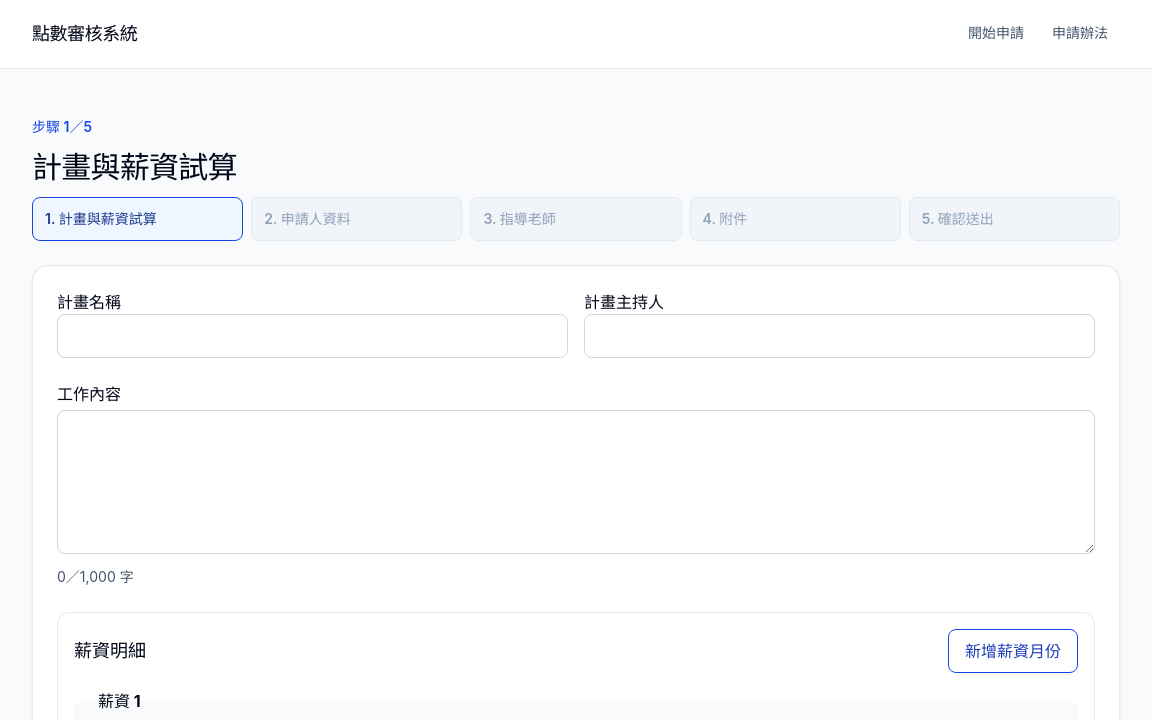
it: project participation application page › only estimates on explicit action and invalidates the result after salary changes
Expected: the heading "計畫與薪資試算" is shown, top-left (32, 149), bottom-right (237, 185)
Type "數位學習計畫" into the field labelled "計畫名稱".
click(312, 336); type("數位學習計畫")  # box top-left (57, 314), bottom-right (568, 358)
Type "陳教授" into the field labelled "計畫主持人".
click(840, 336); type("陳教授")  # box top-left (584, 314), bottom-right (1095, 358)
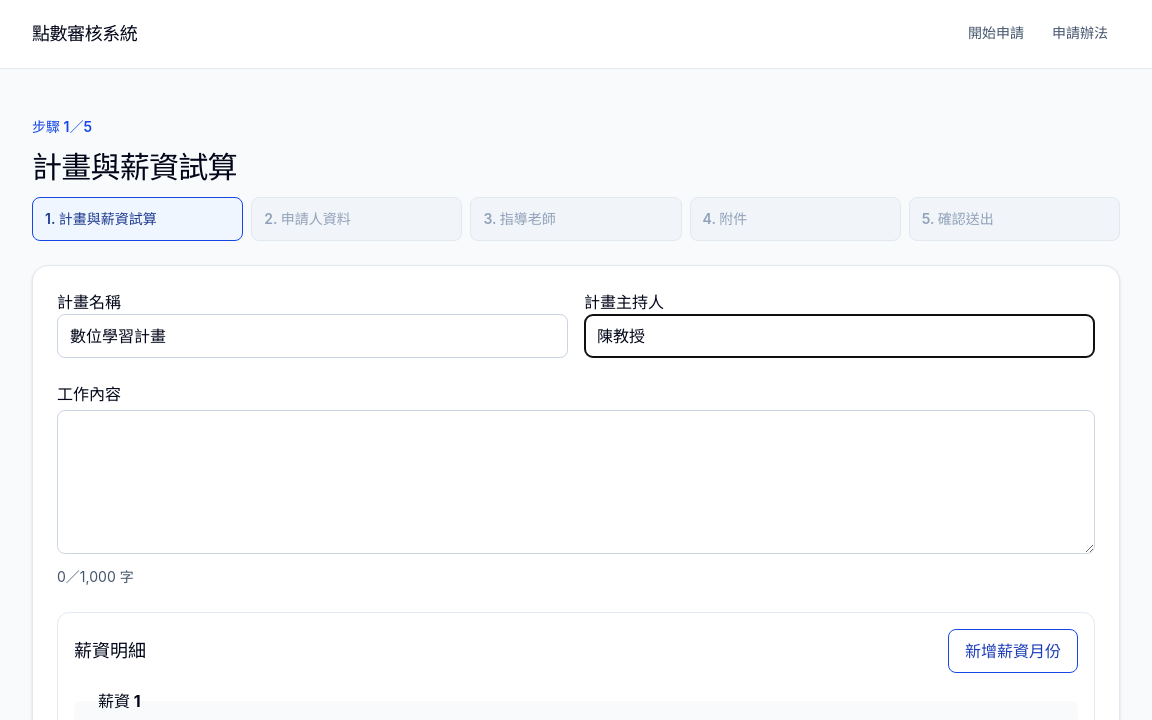
Type "協助教材設計。" into the text box labelled "工作內容".
click(576, 482); type("協助教材設計。")  # box top-left (57, 410), bottom-right (1095, 554)
(page scrolled)
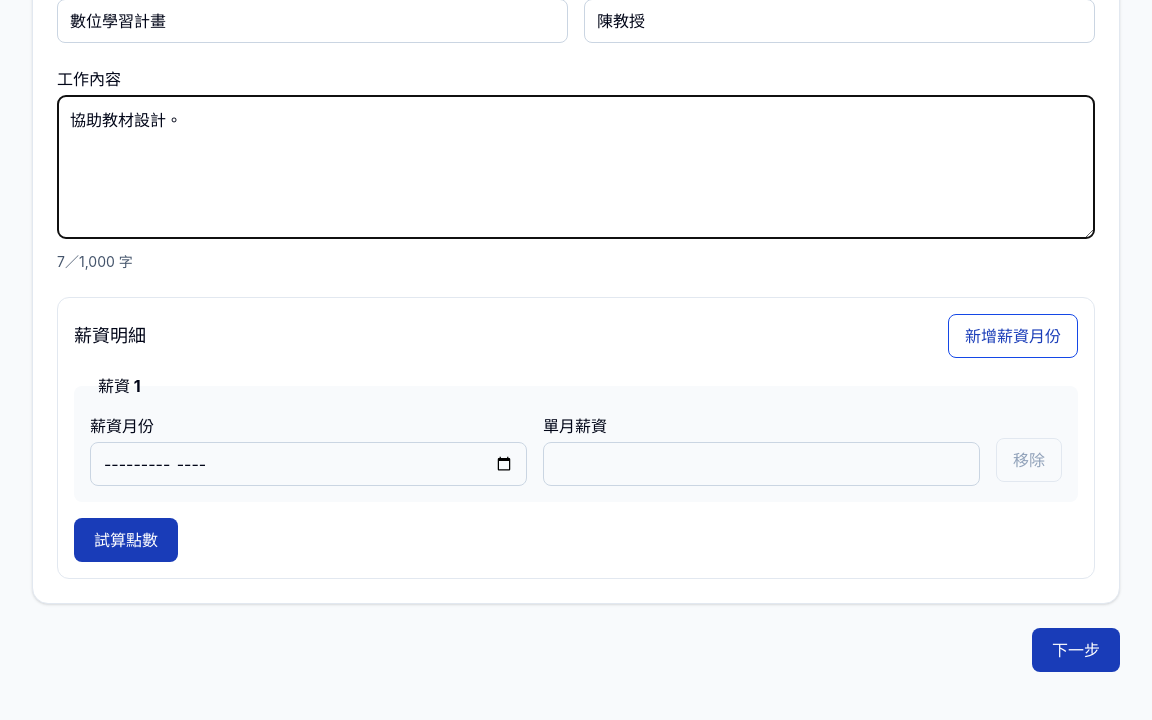
Type "2026-06" into the field labelled "薪資月份".
click(308, 464); type("2026-06")  # box top-left (90, 442), bottom-right (527, 486)
Type "8500" into the number field labelled "單月薪資".
click(762, 464); type("8500")  # box top-left (543, 442), bottom-right (980, 486)
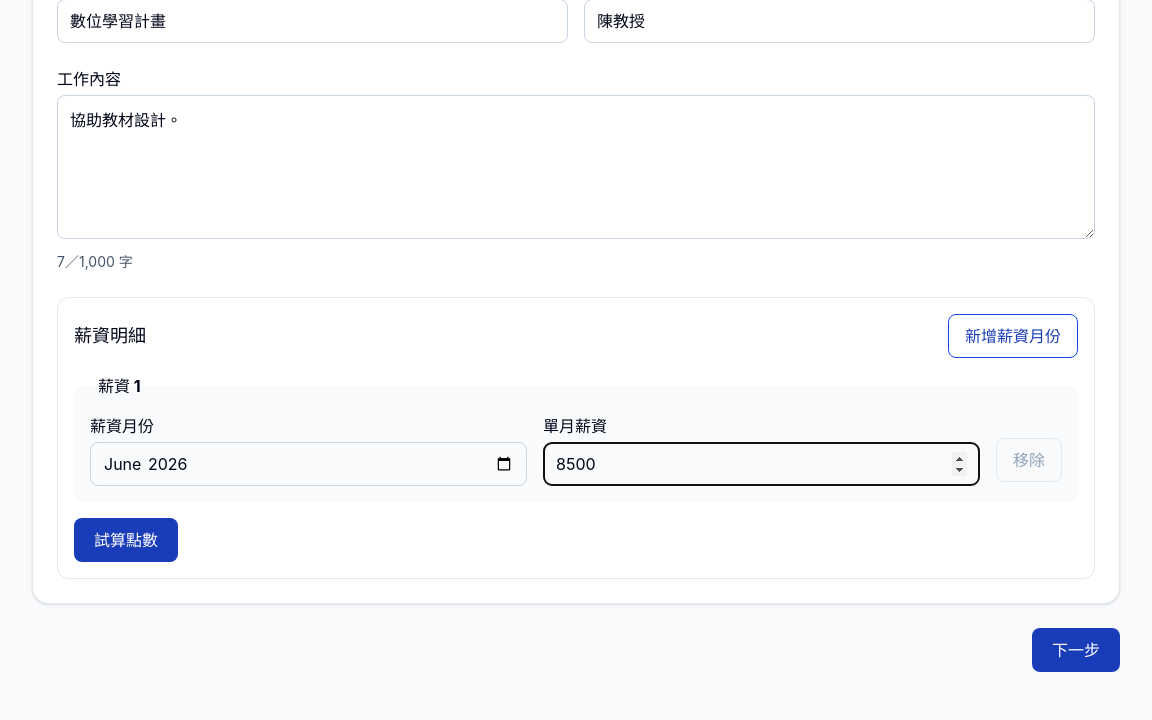
Click the button "試算點數".
click(126, 540)  # box top-left (74, 518), bottom-right (178, 562)
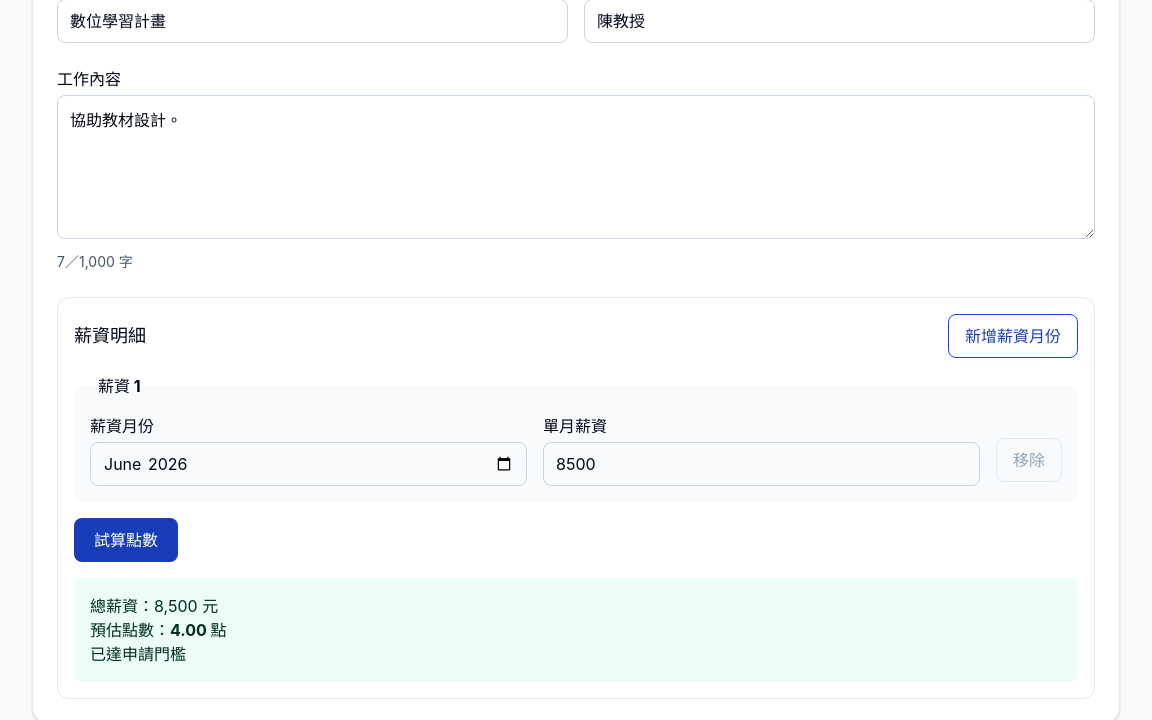
Expected: the text "預估點數：4.00 點" is shown, top-left (90, 620), bottom-right (226, 640)
Replace the text in the number field labelled "單月薪資" with "8501" at (762,464), box top-left (543, 442), bottom-right (980, 486)
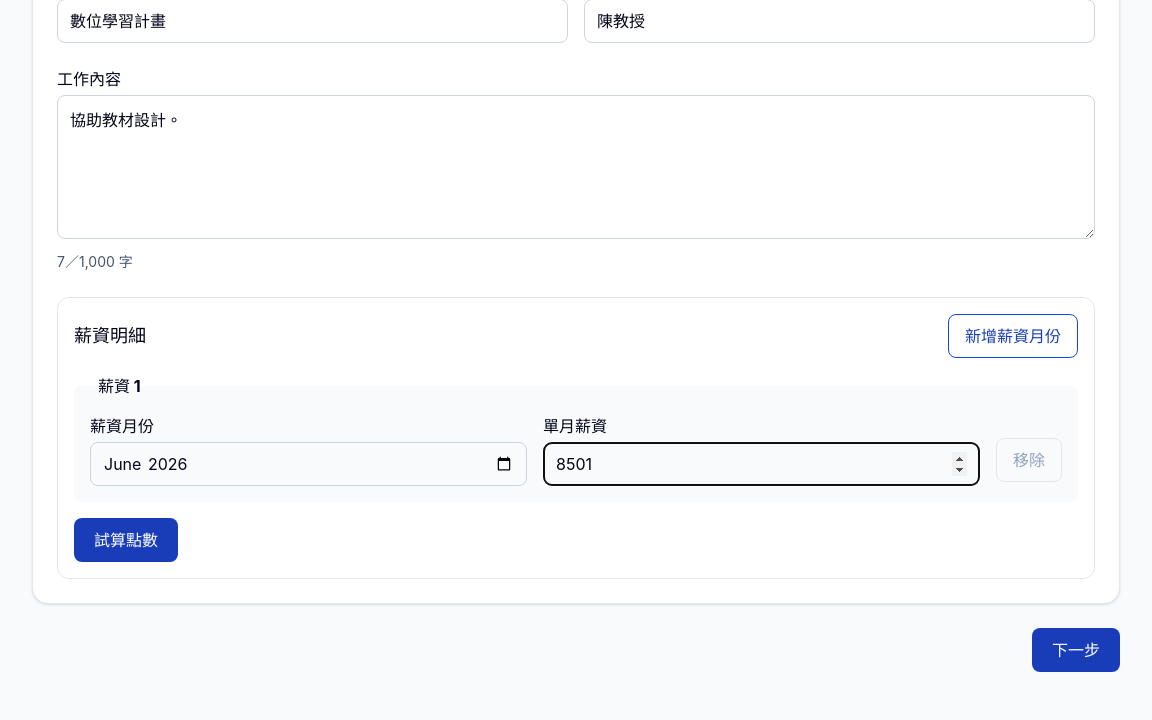
Expected: the text "預估點數：4.00 點" is not shown
Click the button "下一步".
click(1076, 650)  # box top-left (1032, 628), bottom-right (1120, 672)
(page scrolled)
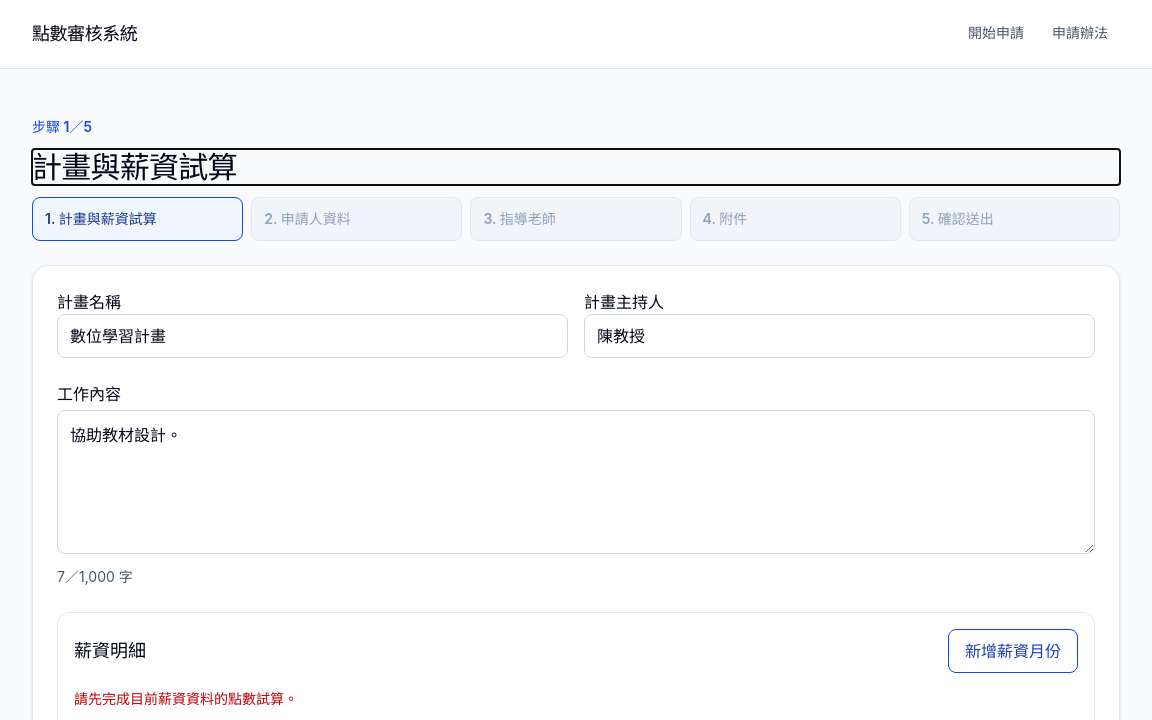
Expected: the text "請先完成目前薪資資料的點數試算。" is shown, top-left (74, 690), bottom-right (298, 707)
